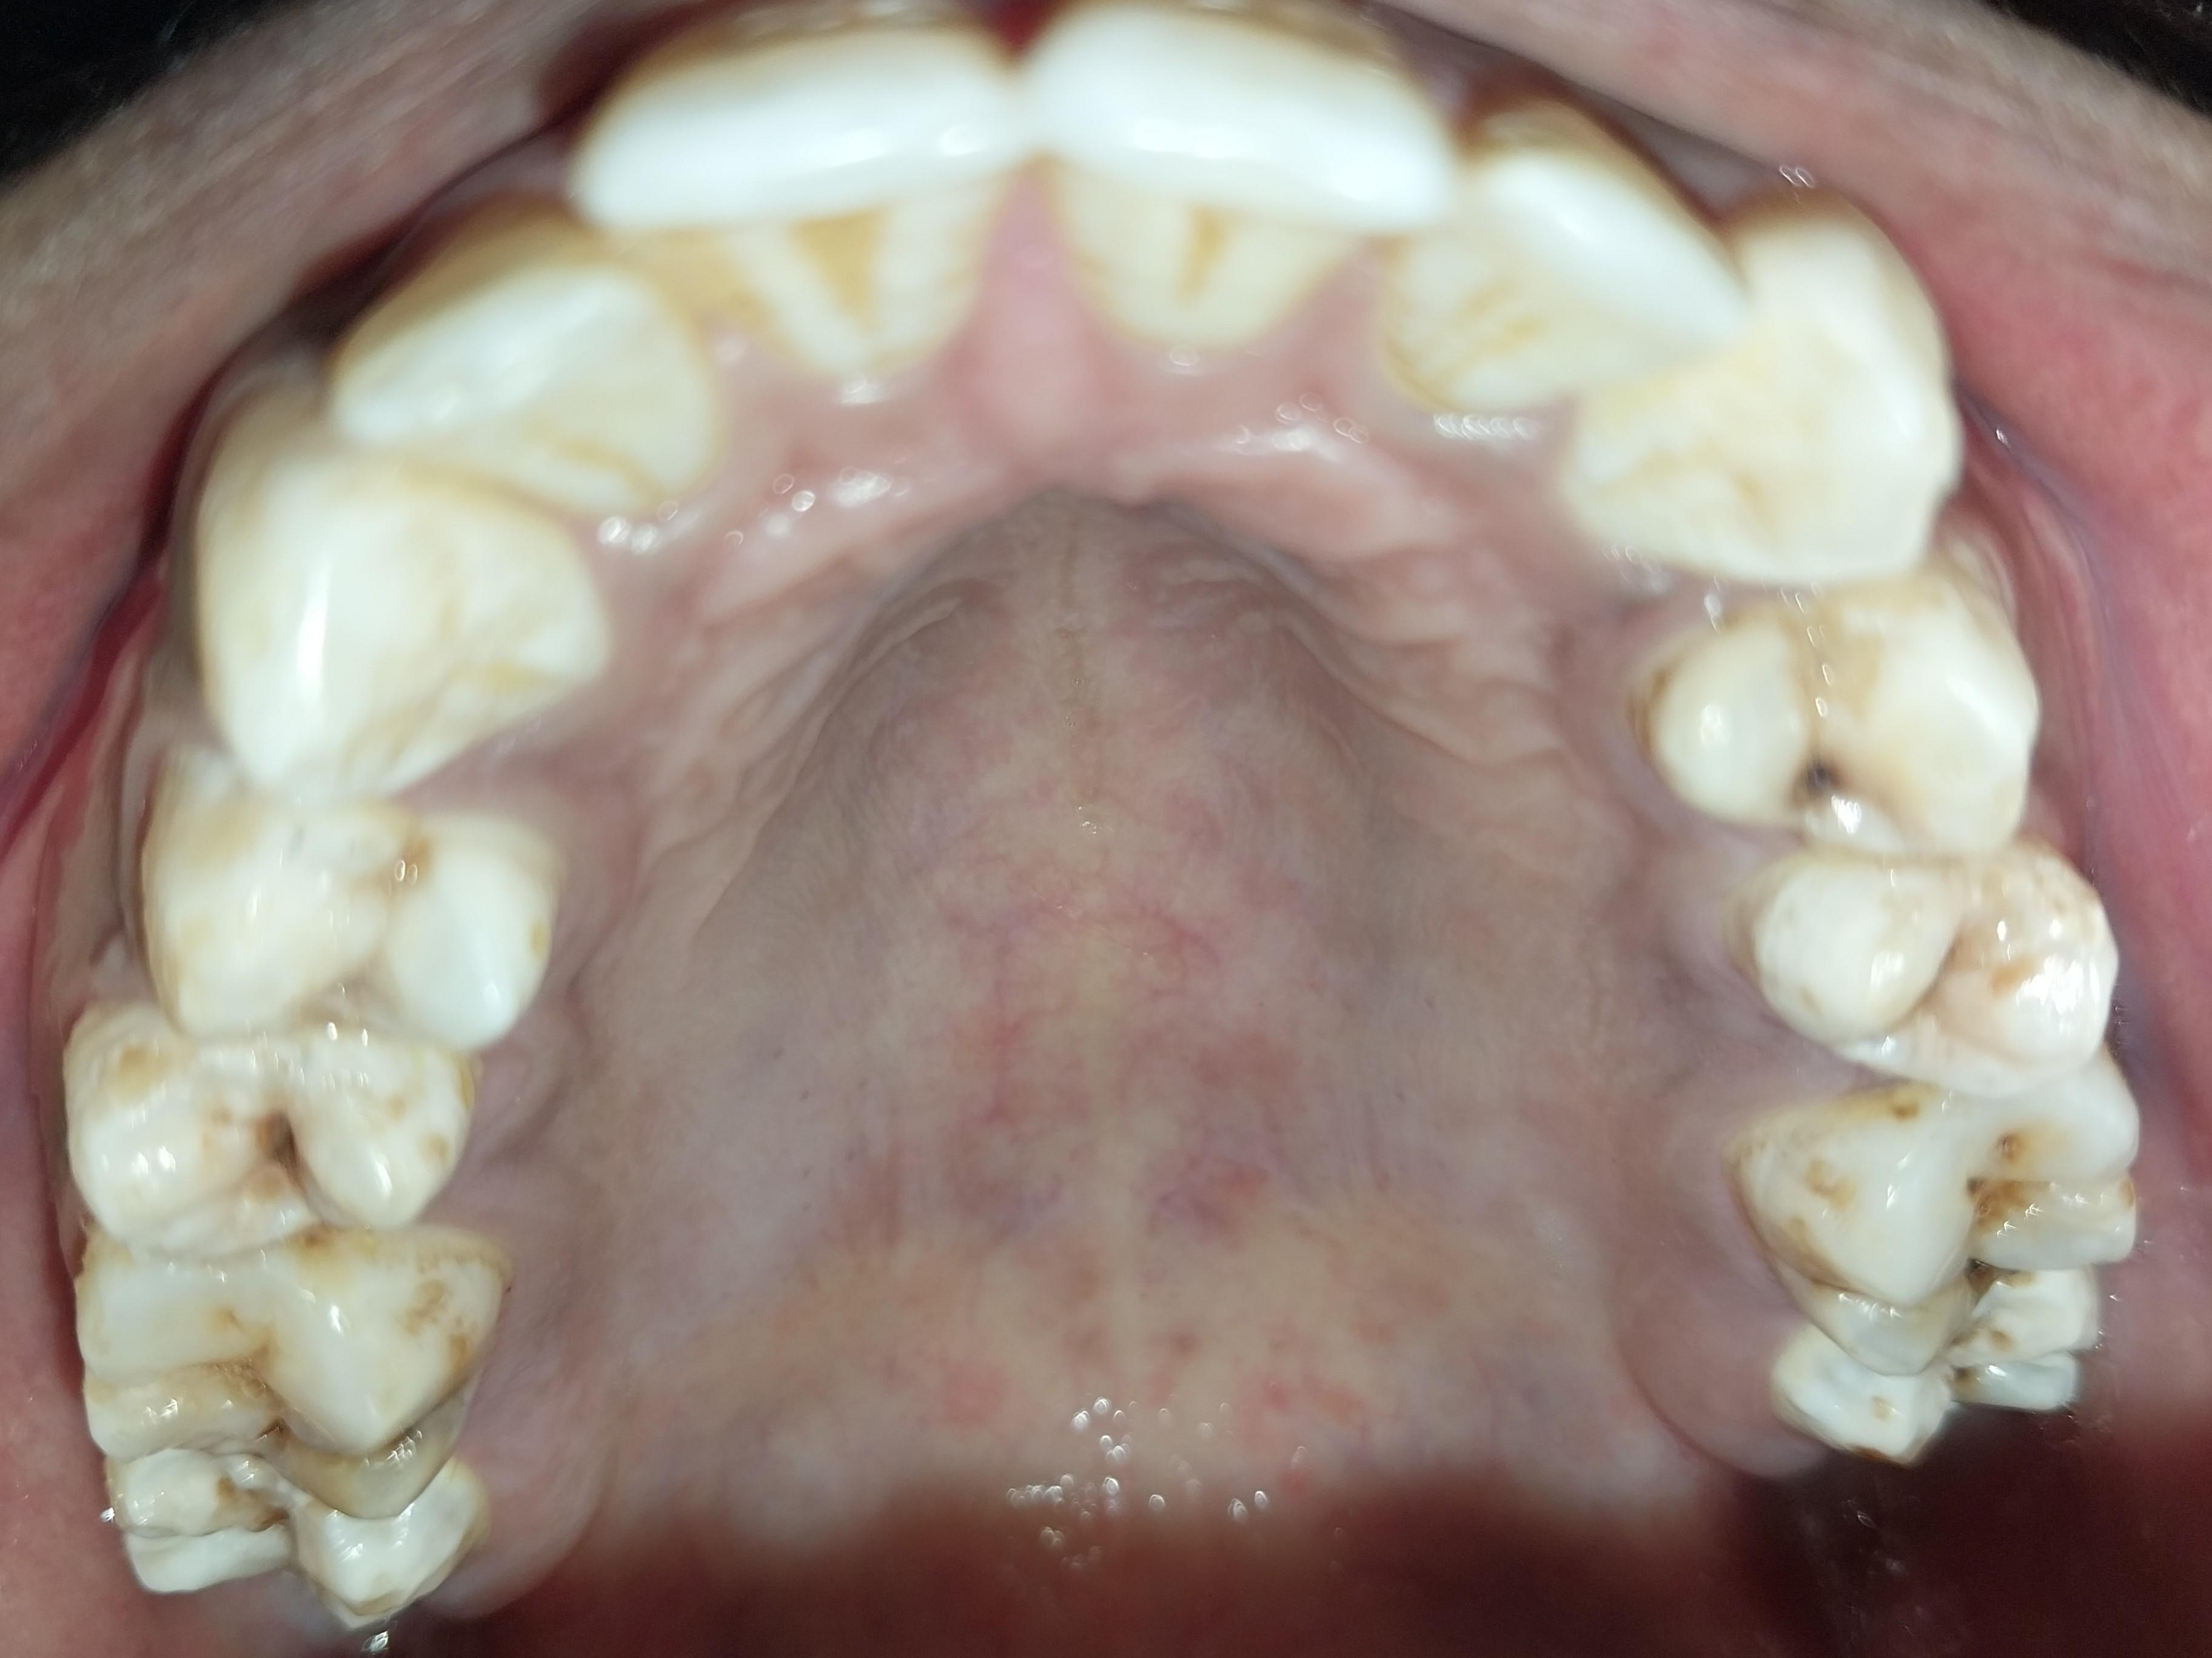D: (58, 1241, 485, 1528), (1729, 1072, 2136, 1354), (1654, 583, 2033, 854), (66, 1005, 451, 1244)
